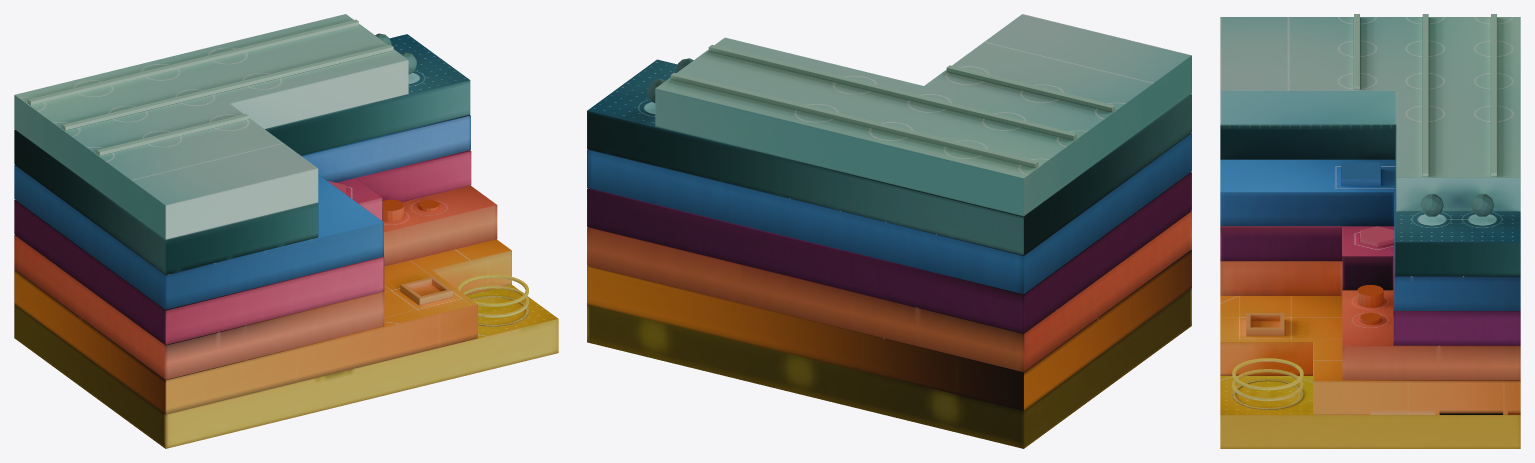
File: value-blueprint3.glb
The picture shows the model from 3 angles, left to right: view 1: azimuth 30°, elevation 25°; view 2: azimuth 150°, elevation 25°; view 3: azimuth 270°, elevation 25°; orthographic projection. The views are drawn at different scales.
Parts seen in each view (by area): view 1: layer7, layer2, layer1, layer5, layer6, layer3, layer4, attach7, attach1, attach2, attach3; view 2: layer7, layer6, layer4, layer5, layer3, layer2, layer1, attach7; view 3: layer7, layer2, layer5, layer6, layer1, layer3, layer4, attach7, attach1, attach5, attach2, attach6 (+2 smaller).
Boxes of the visible parts, x1,y1,x2,y2 form: layer7: (14,14,408,239); layer2: (14,239,511,414); layer1: (14,284,558,448); layer5: (14,114,470,309); layer6: (14,34,470,274); layer3: (14,185,497,379); layer4: (14,150,471,344); attach7: (28,19,393,155); attach1: (457,274,528,326); attach2: (400,276,452,305); attach3: (382,199,439,222); layer7: (655,14,1191,216); layer6: (587,59,1191,255); layer4: (587,172,1191,333); layer5: (587,133,1191,294); layer3: (587,211,1191,372); layer2: (587,249,1191,410); layer1: (587,288,1191,448); attach7: (670,44,1115,168); layer7: (1220,17,1520,211); layer2: (1220,296,1520,414); layer5: (1220,159,1520,310); layer6: (1220,125,1520,275); layer1: (1220,376,1520,448); layer3: (1220,261,1520,380); layer4: (1220,226,1520,345); attach7: (1354,14,1496,176); attach1: (1232,358,1303,409); attach5: (1341,162,1380,185); attach2: (1246,313,1284,336); attach6: (1420,194,1493,216).
Bounding box in the file's own units: 3 × 1.8 × 2.
Materials: 14 (14 with a texture image).
